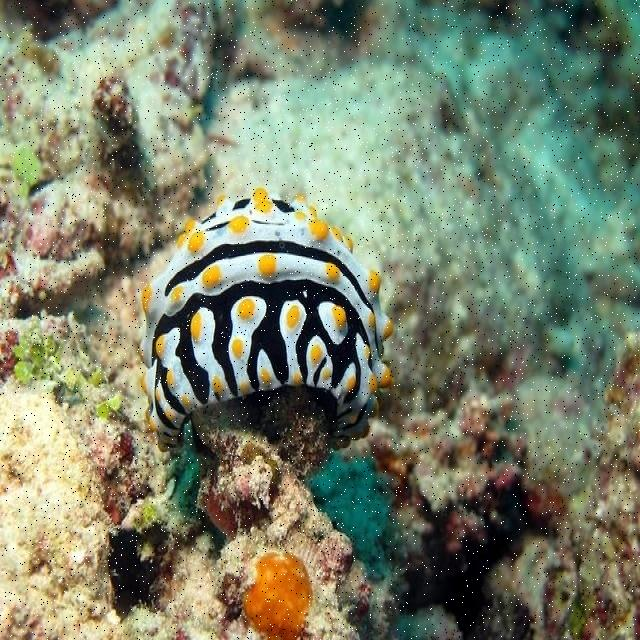reefs: (141, 188, 394, 454)
